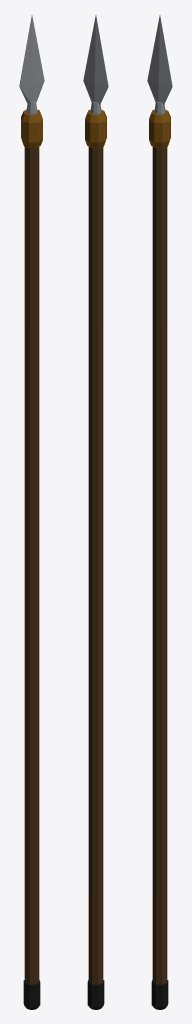
File: Spear.obj
The picture shows the model from 3 angles, left to right: view 1: azimuth 30°, elevation 25°; view 2: azimuth 150°, elevation 25°; view 3: azimuth 330°, elevation 25°; orthographic projection.
Visible parts, largest first — view 1: Ash, Steel, Brass, Gunmetal; view 2: Ash, Steel, Brass, Gunmetal; view 3: Ash, Steel, Brass, Gunmetal.
Boxes of the visible parts, <box> form: Ash: <box>24,147,39,984</box>; Steel: <box>19,15,44,114</box>; Brass: <box>21,109,42,148</box>; Gunmetal: <box>23,980,40,1009</box>; Ash: <box>88,147,103,984</box>; Steel: <box>83,15,108,114</box>; Brass: <box>85,109,106,148</box>; Gunmetal: <box>87,980,104,1009</box>; Ash: <box>152,147,167,984</box>; Steel: <box>147,15,172,114</box>; Brass: <box>149,109,170,148</box>; Gunmetal: <box>151,980,168,1009</box>.
Size of the model in its own units: 0.06 by 2.28 by 0.048.
